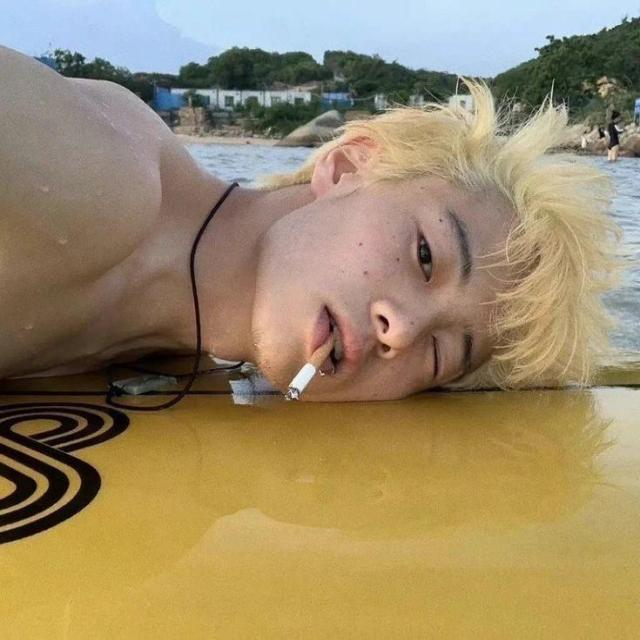cigarette: (270, 316, 342, 416)
